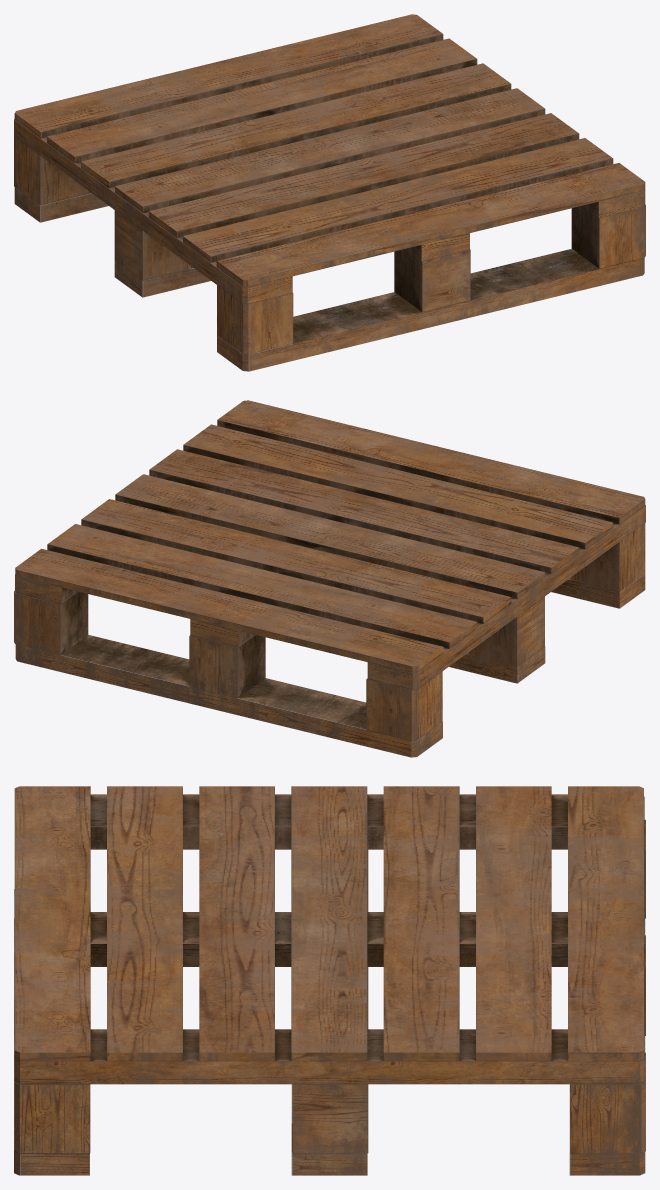
File: pallet2.glb
3 renders of one model, top to bottom at view 1: azimuth 30°, elevation 25°; view 2: azimuth 150°, elevation 25°; view 3: azimuth 270°, elevation 25°, orthographic. The views are drawn at different scales.
Parts seen in each view (by area): view 1: pallet; view 2: pallet; view 3: pallet.
Boxes of the visible parts, <box> form: pallet: <box>14,14,645,371</box>; pallet: <box>14,400,645,757</box>; pallet: <box>14,786,645,1175</box>.
Size of the model in its own units: 5 by 1.08 by 5.
4 materials, 4 textured.
